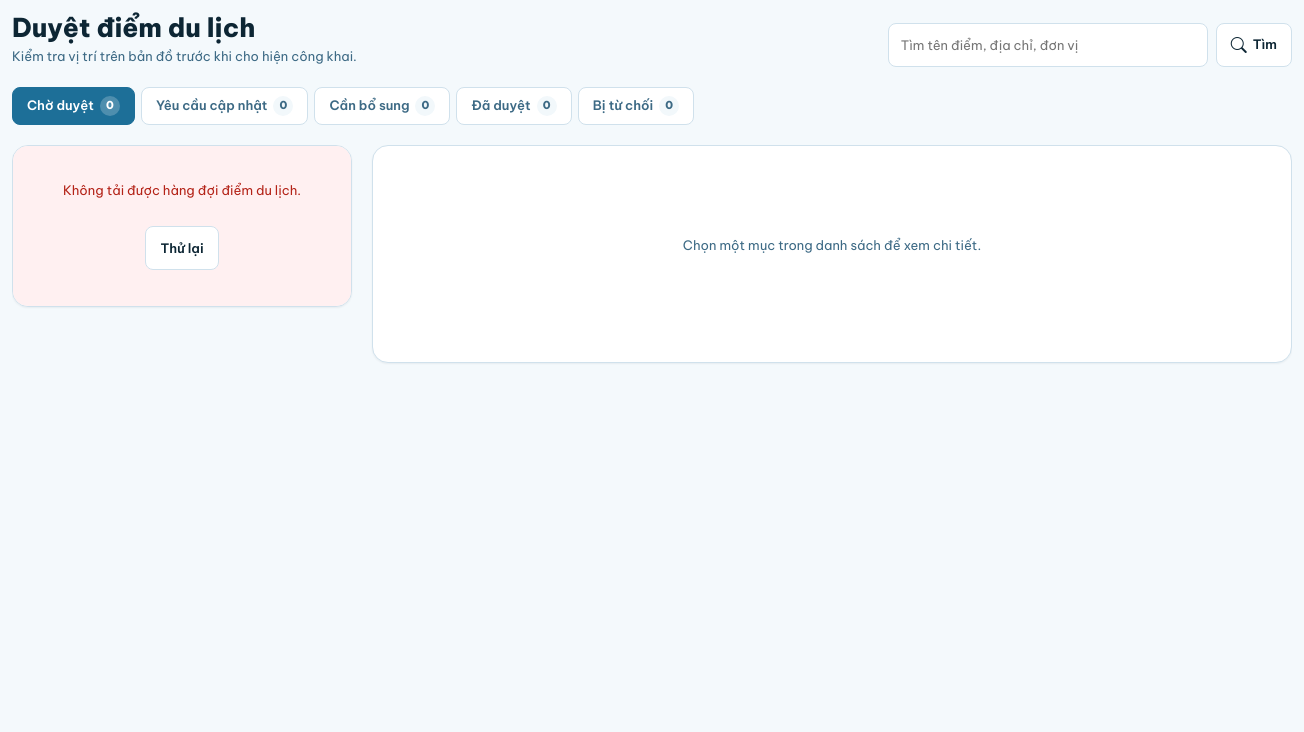
Scenario: AdminLocationsView › hien loi va thu lai khi khong tai duoc hang doi
Click the button "Thử lại" at point(182, 248), box [145,226,219,270]
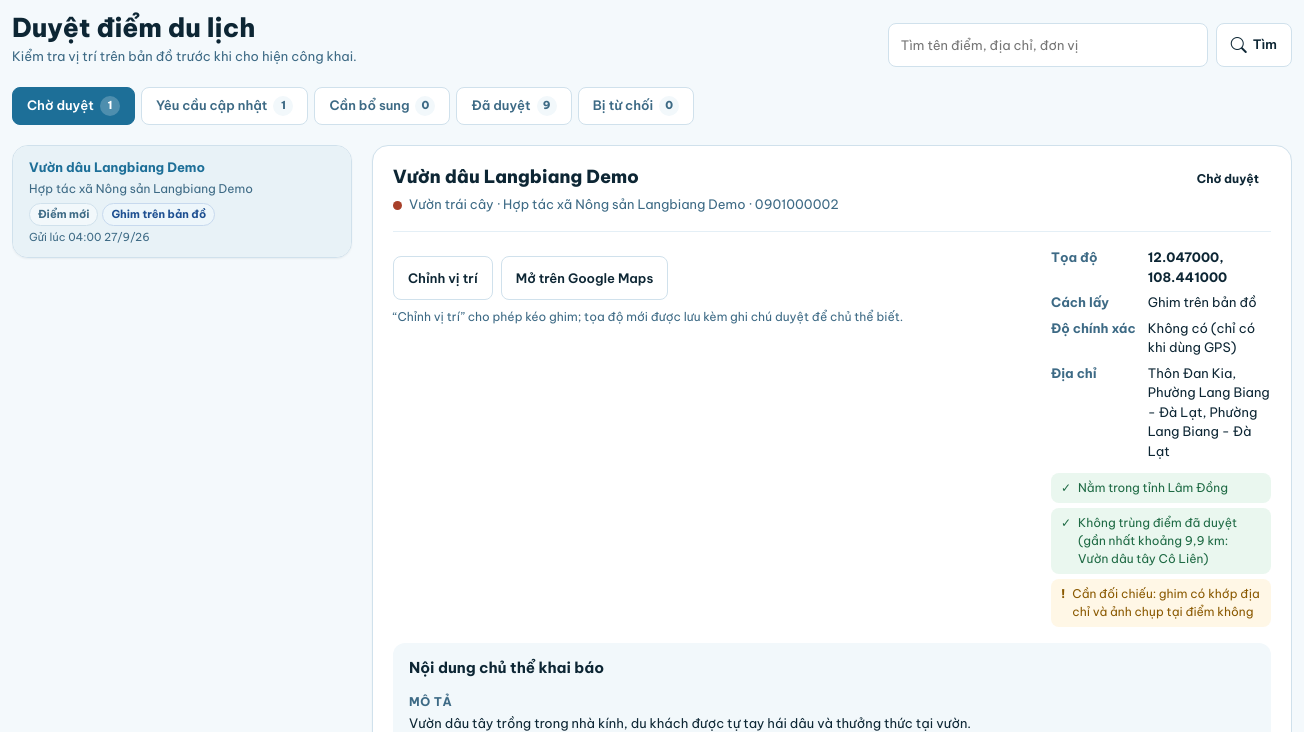
Now the button that starts with "Vườn dâu Langbiang Demo" is shown, box [13,146,351,257]
